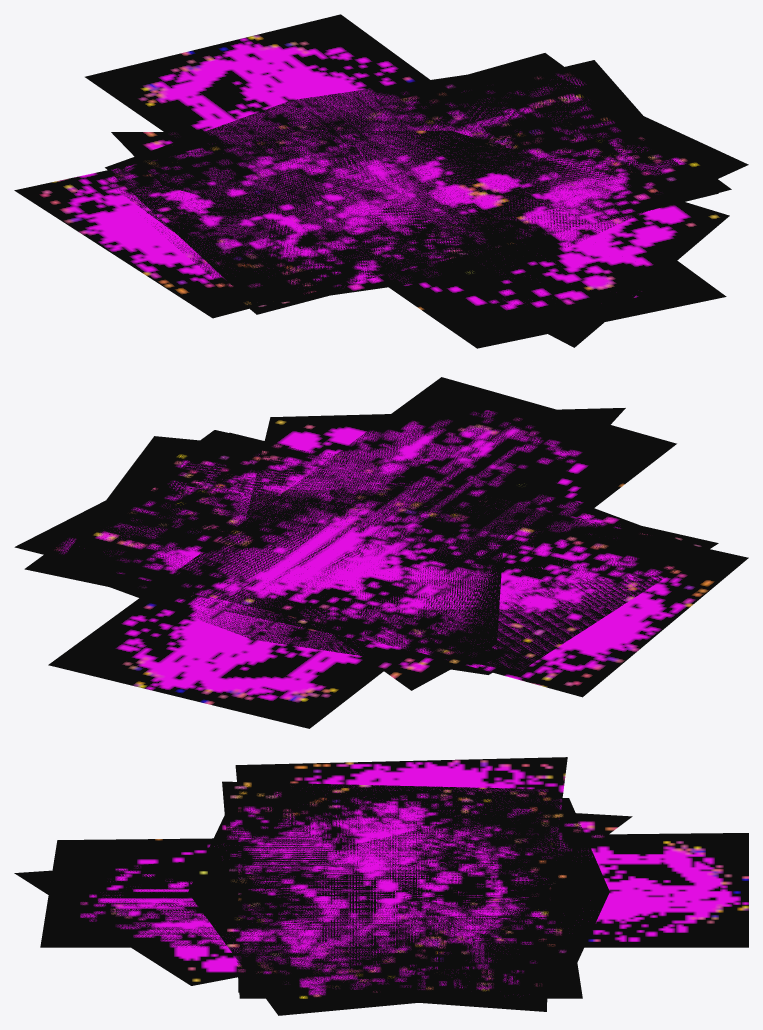
The model's file is BlooStains.fbx.
The picture shows the model from 3 angles, top to bottom: view 1: azimuth 30°, elevation 25°; view 2: azimuth 150°, elevation 25°; view 3: azimuth 270°, elevation 25°; orthographic projection. The views are drawn at different scales.
Parts seen in each view (by area): view 1: BloodStain04, BloodStain01, BloodStain03, BloodStain06, BloodStain05, BloodStain02; view 2: BloodStain06, BloodStain05, BloodStain01, BloodStain04, BloodStain02, BloodStain03; view 3: BloodStain04, BloodStain02, BloodStain03, BloodStain06, BloodStain05, BloodStain01.
Boxes of the visible parts, x1,y1,x2,y2 form: BloodStain04: (105,65,748,306); BloodStain01: (111,130,729,347); BloodStain03: (96,65,718,302); BloodStain06: (85,14,726,348); BloodStain05: (14,60,676,318); BloodStain02: (146,53,731,314); BloodStain06: (48,377,676,728); BloodStain05: (14,464,748,697); BloodStain01: (241,408,625,690); BloodStain04: (56,436,701,674); BloodStain02: (24,430,718,672); BloodStain03: (81,432,647,674); BloodStain04: (188,785,609,1015); BloodStain02: (222,781,582,998); BloodStain03: (238,791,559,992); BloodStain06: (40,833,748,947); BloodStain05: (235,757,567,1011); BloodStain01: (14,809,632,985).
Size of the model in its own units: 182 by 0 by 218.
